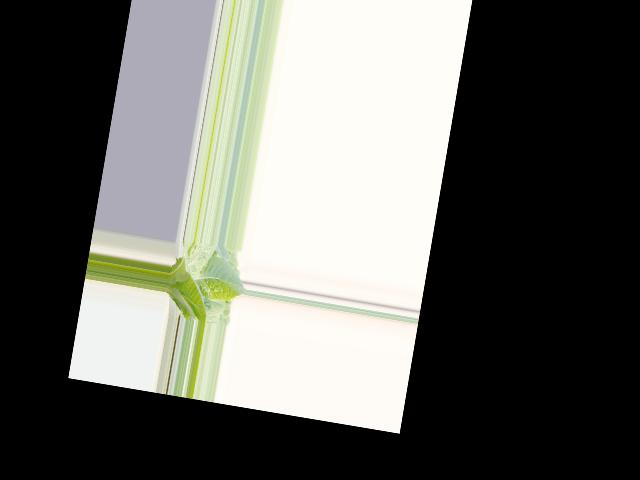lettuce: (162, 246, 244, 325)
